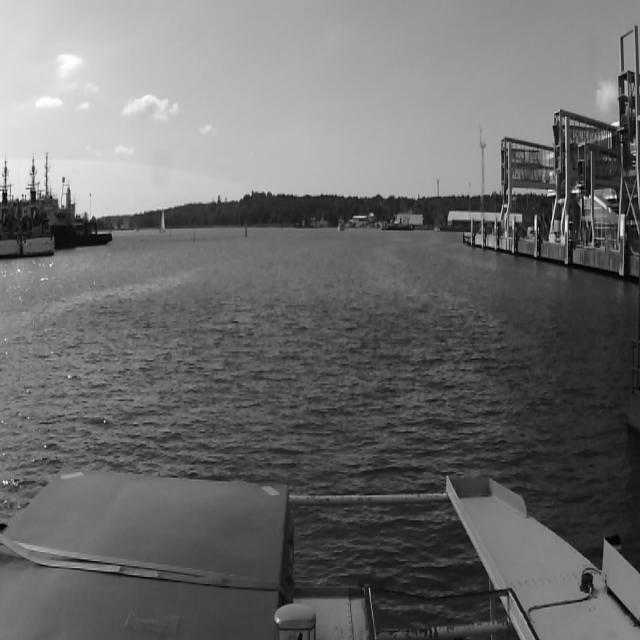buoy: (244, 220, 248, 239), (192, 229, 196, 243)
ship: (0, 155, 111, 247), (0, 156, 58, 260), (158, 209, 166, 235), (337, 218, 343, 229)
